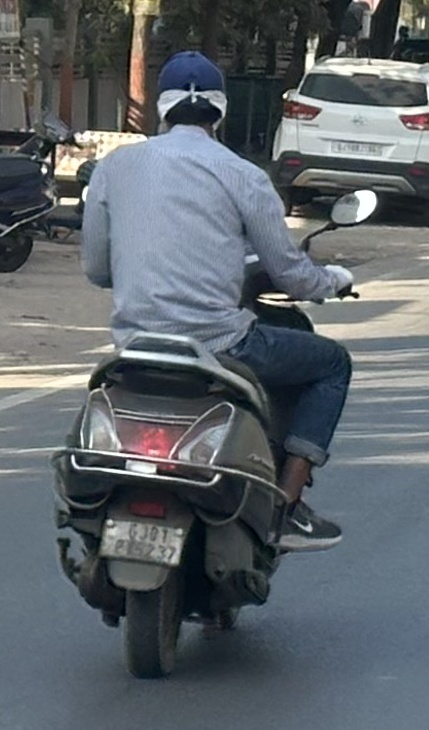BikeWithRider: (37, 44, 383, 687)
NoHelmet: (145, 45, 236, 144)
